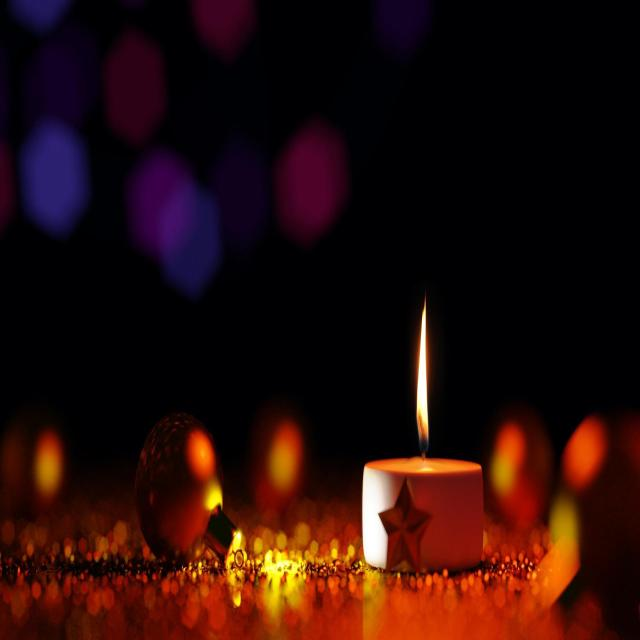Fire_Save: (361, 289, 484, 573), (134, 410, 242, 569)
